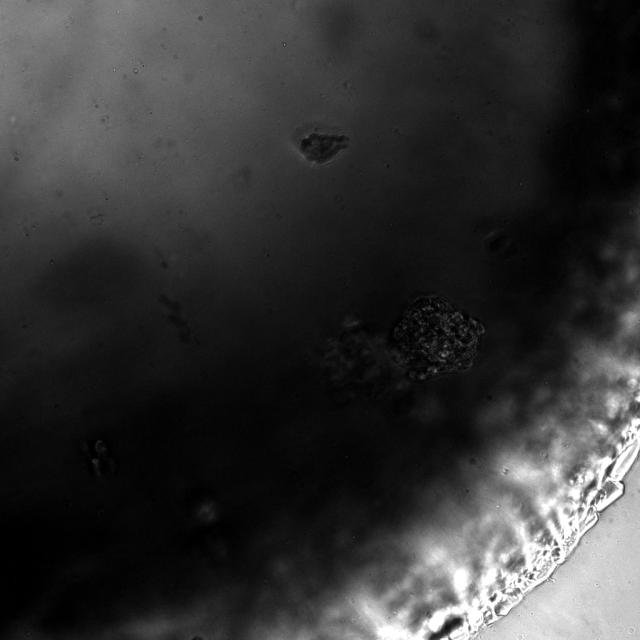organoid: (321, 296, 484, 397), (298, 130, 349, 163)
